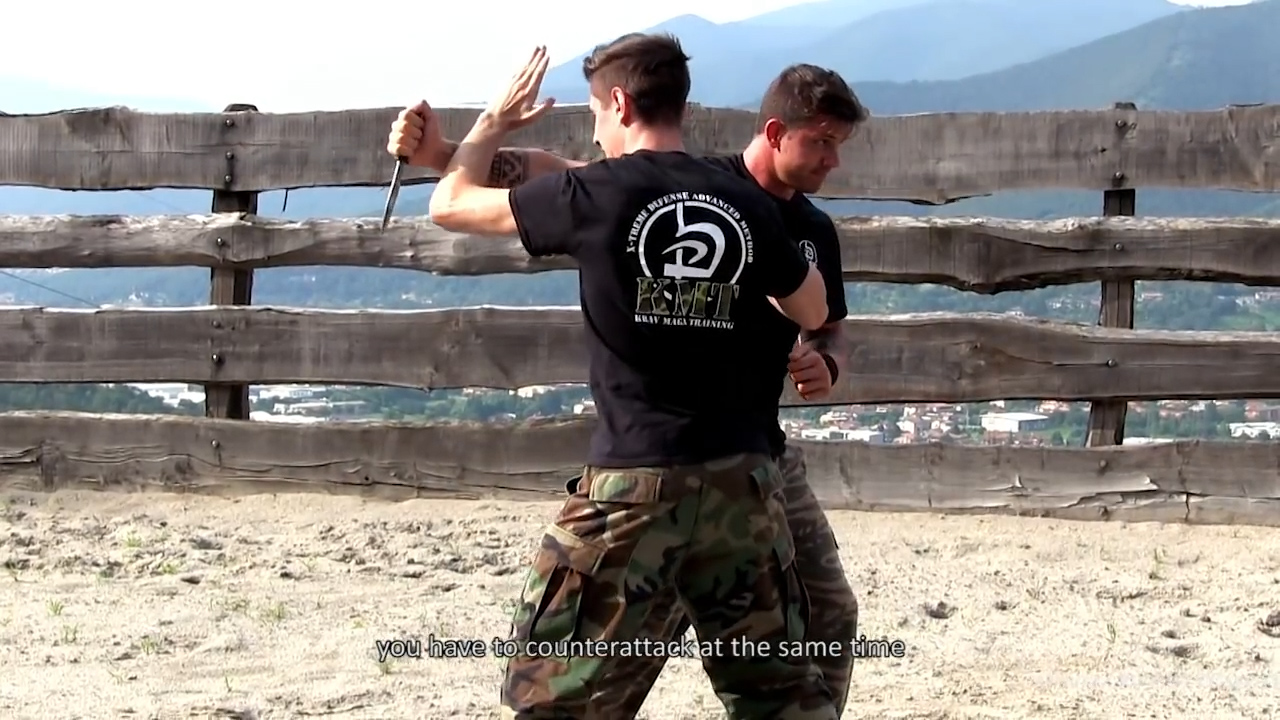knife: (369, 93, 434, 242)
